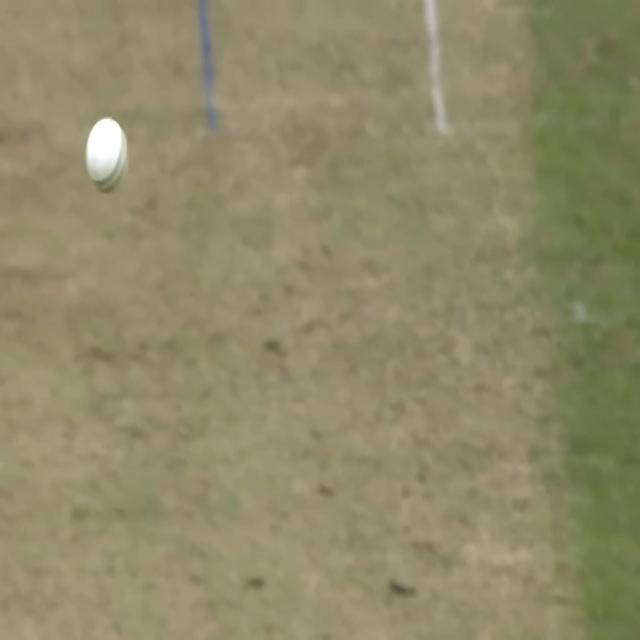ball: (74, 108, 138, 198)
